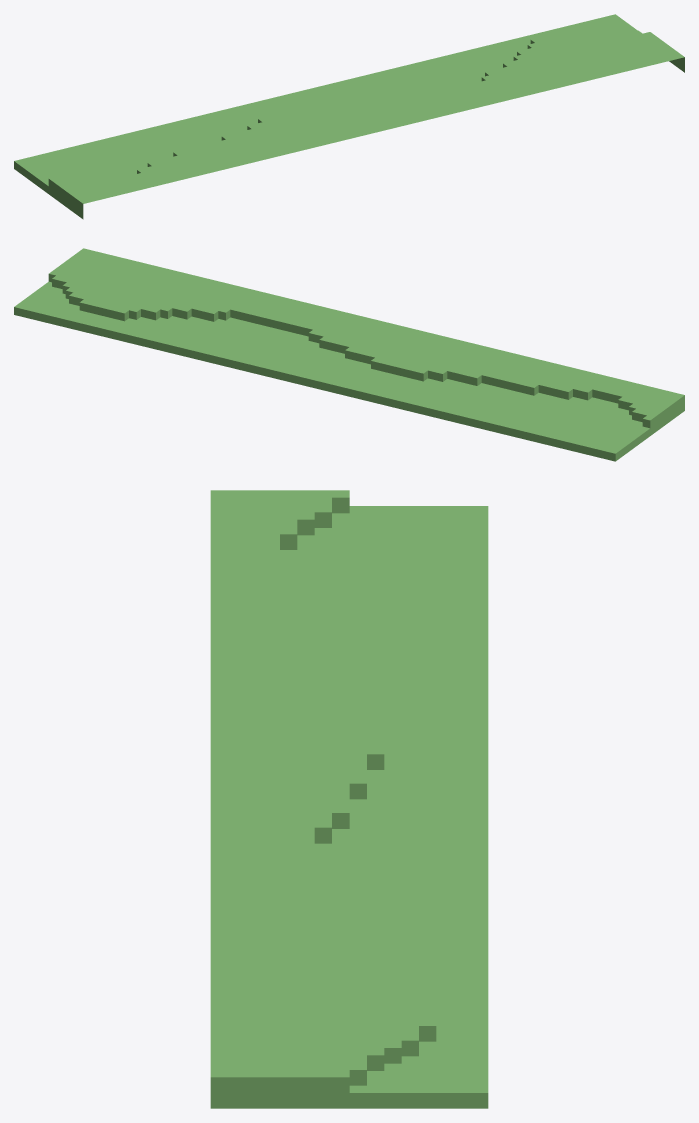
Rendered from Straight10-1step-4.fbx.
The picture shows the model from 3 angles, top to bottom: view 1: azimuth 30°, elevation 25°; view 2: azimuth 150°, elevation 25°; view 3: azimuth 270°, elevation 25°; orthographic projection. The views are drawn at different scales.
Parts seen in each view (by area): view 1: Straight10-1step-4; view 2: Straight10-1step-4; view 3: Straight10-1step-4.
Boxes of the visible parts, <box> form: Straight10-1step-4: <box>14,14,684,219</box>; Straight10-1step-4: <box>14,248,684,461</box>; Straight10-1step-4: <box>210,490,488,1108</box>.
Bounding box in the file's own units: 80 × 2 × 16.
1 material, 1 textured.
